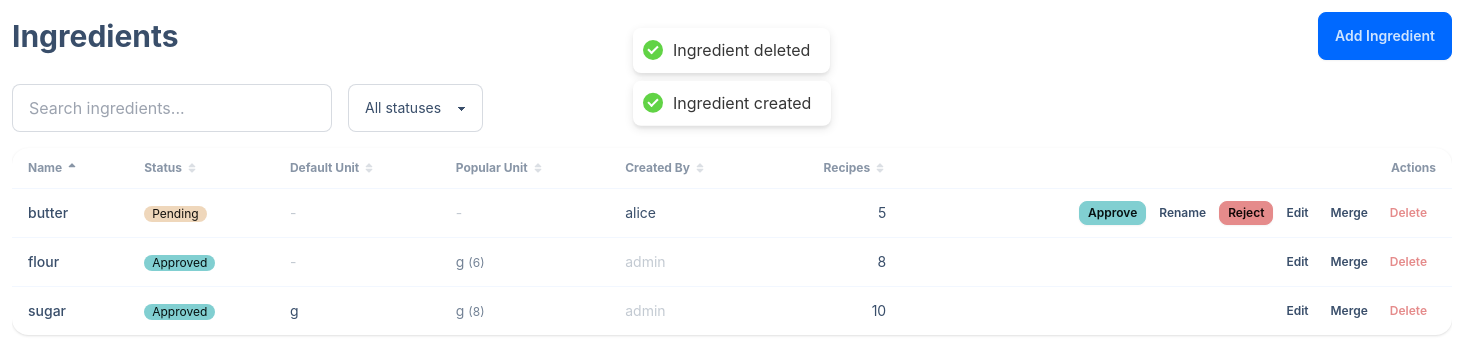
Test: AdminIngredientsPage › should approve a pending ingredient
Expected: the text "butter" is shown, [12,188,128,238]
Click the button "Approve" at (1113, 213), box [1079,201,1146,225]
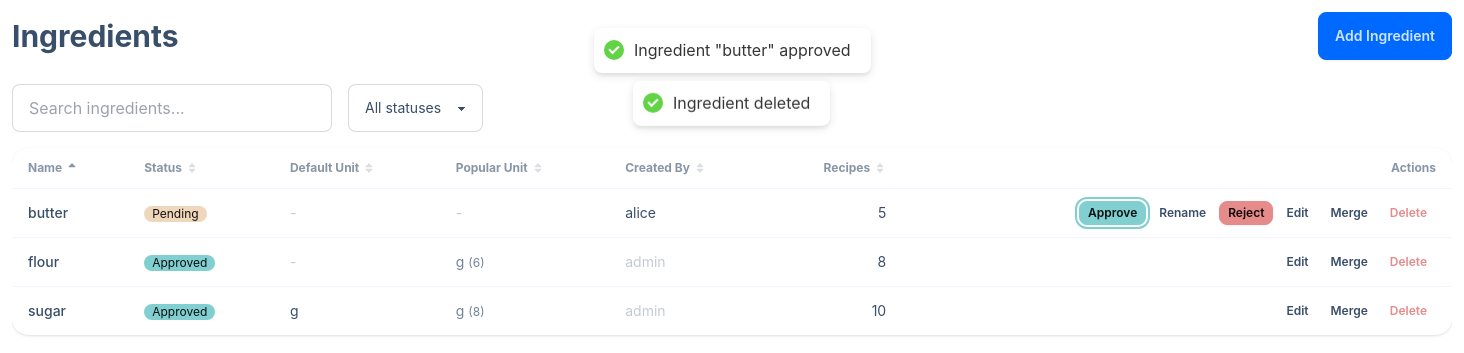
Result: the text "Ingredient \"butter\" approved" is shown at [634,40,850,61]
